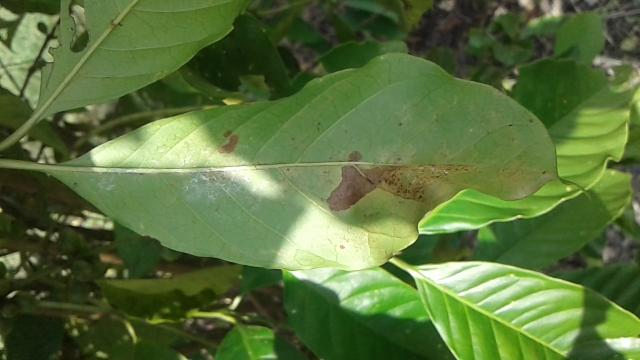red_spider_mite: (47, 44, 596, 270)
